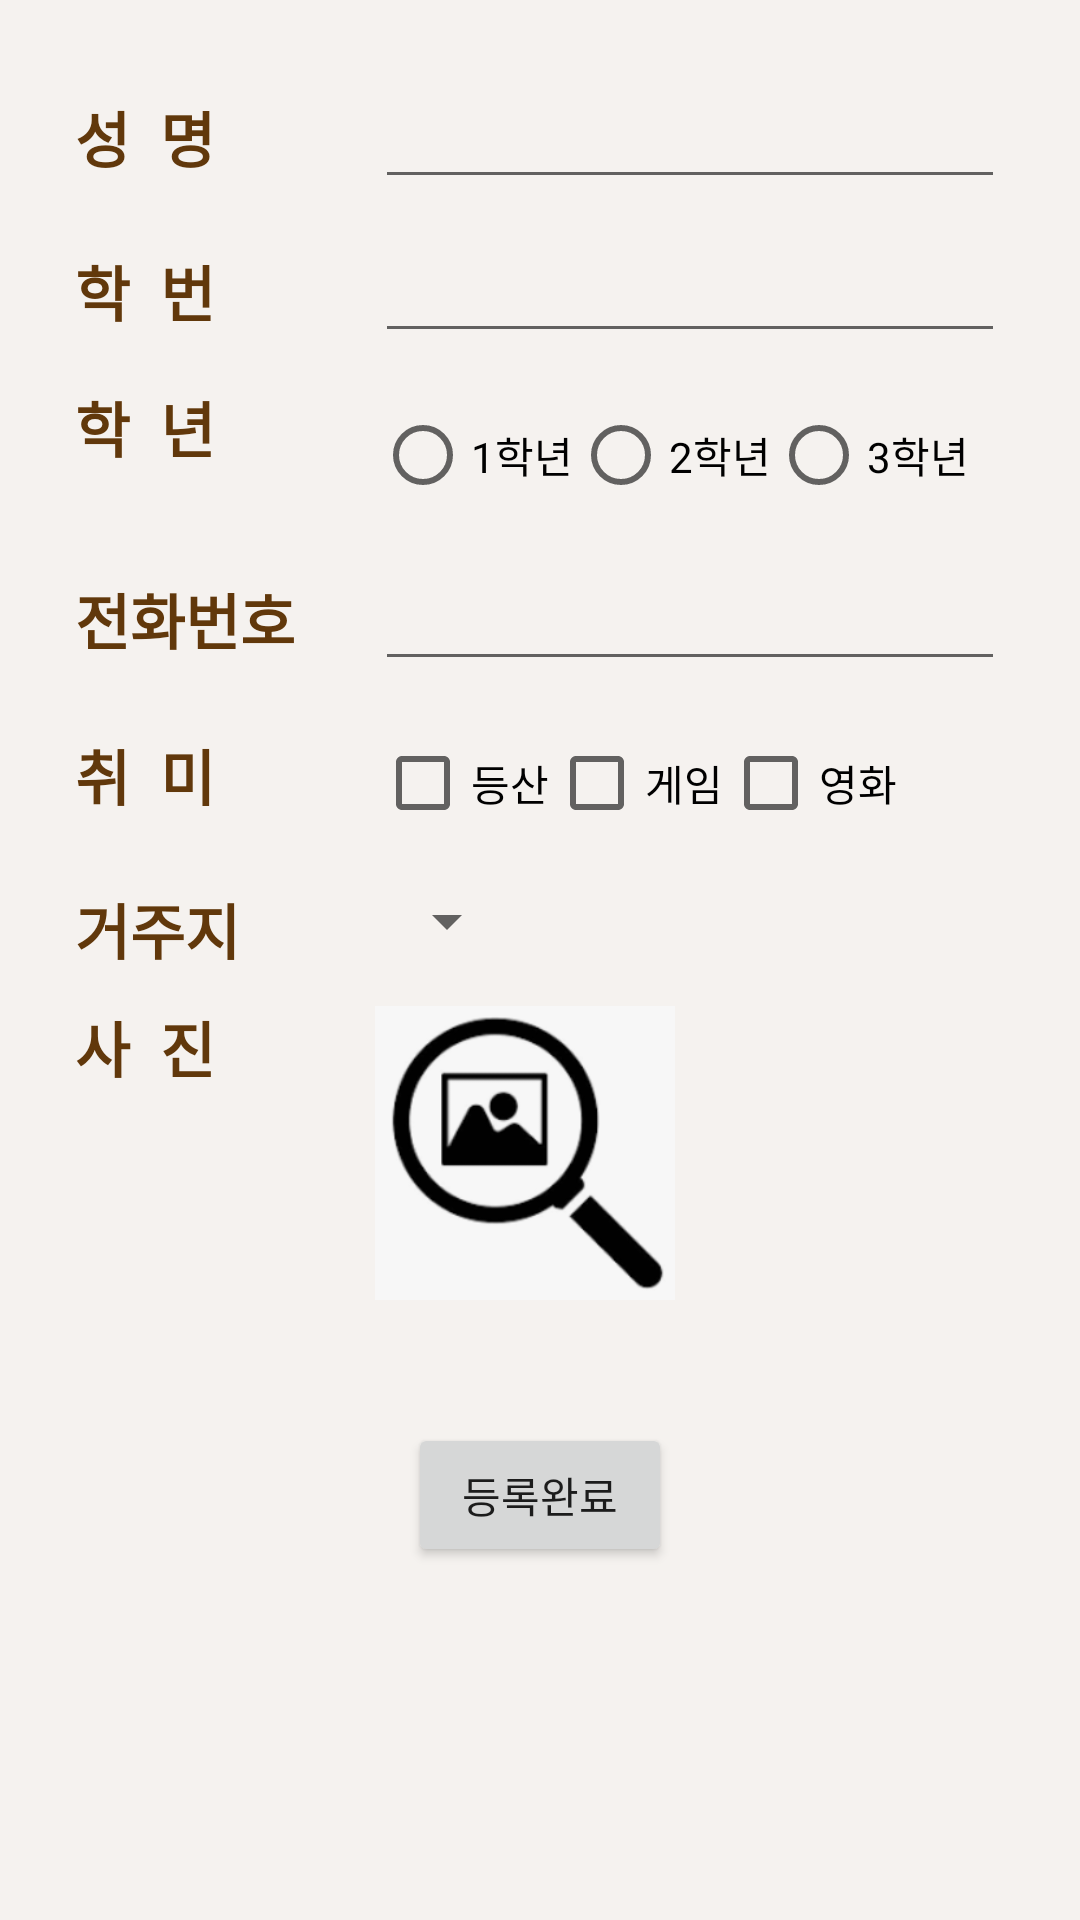

Icons on this 1080*1920 Android screen, each with its box as (x1, y1, x2, y2):
findimg: (392, 1017, 663, 1289)
